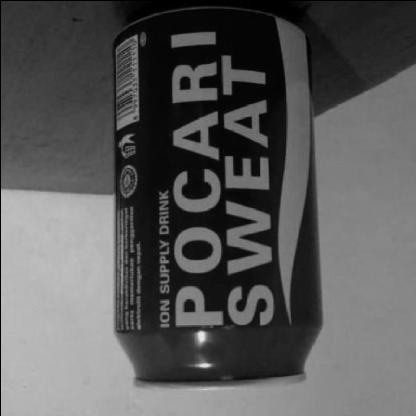alumunium_can: (94, 0, 336, 395)
